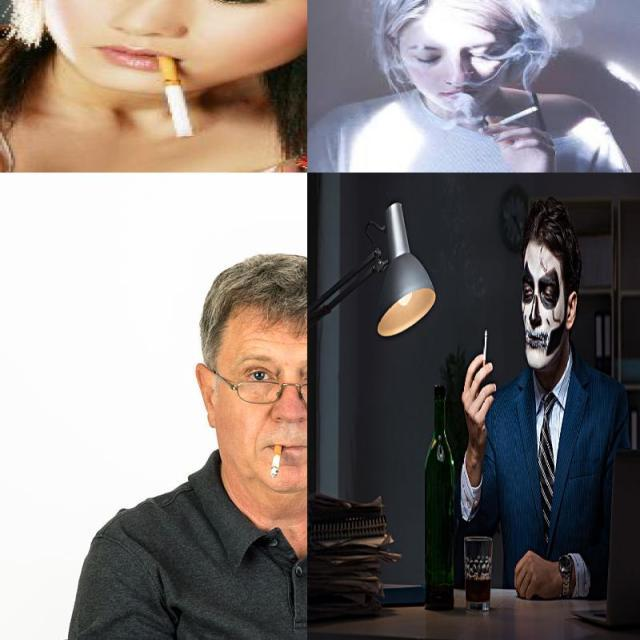smoking: (157, 53, 196, 139), (486, 106, 539, 130), (268, 439, 286, 482), (482, 329, 488, 371)
